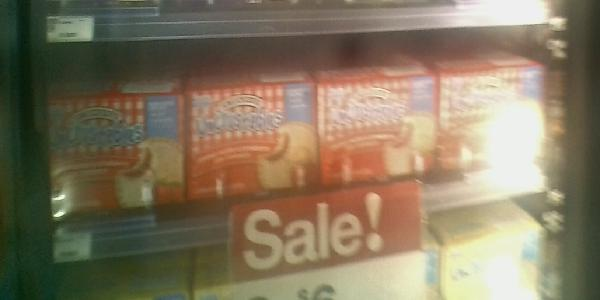icecream: (48, 83, 184, 219), (184, 81, 315, 205), (316, 75, 441, 183), (443, 68, 546, 185)
